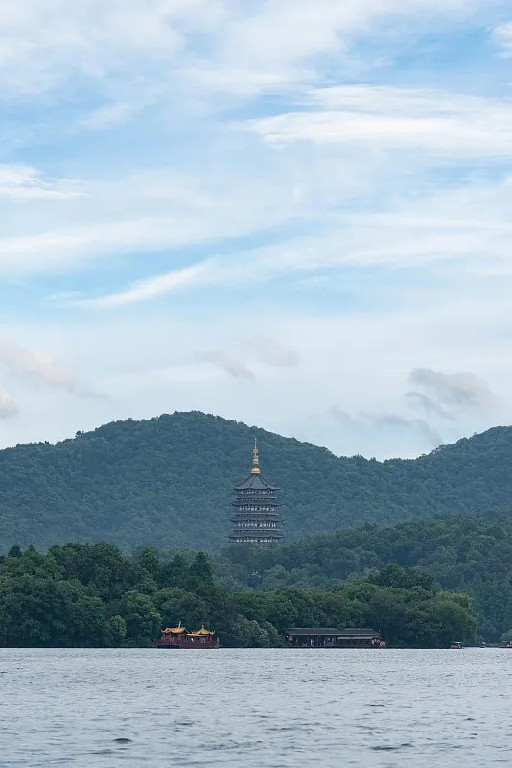Leifeng: (226, 437, 282, 558)
